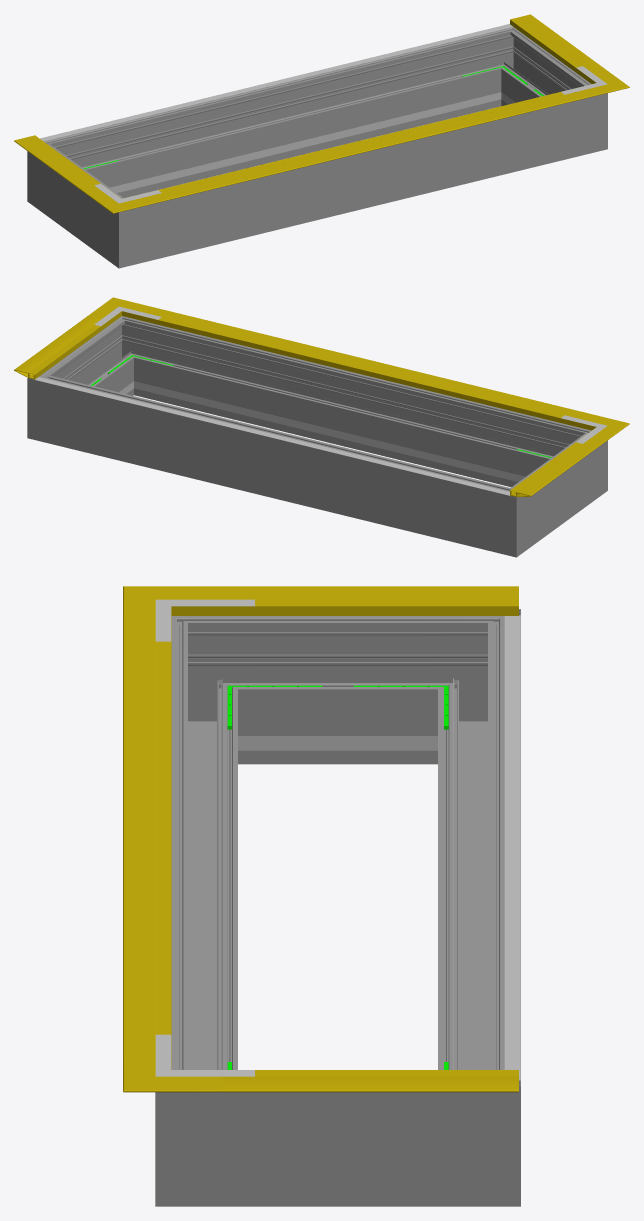
The picture shows the model from 3 angles, top to bottom: view 1: azimuth 30°, elevation 25°; view 2: azimuth 150°, elevation 25°; view 3: azimuth 270°, elevation 25°; orthographic projection. The views are drawn at different scales.
Visible parts, largest first — view 1: 3DGeom-276, 3DGeom-298, 3DGeom-141, 3DGeom-270, 3DGeom-244, 3DGeom-290, 3DGeom-284, 3DGeom-297, 3DGeom-268, 3DGeom-220, 3DGeom-278, 3DGeom-158 (+7 smaller); view 2: 3DGeom-298, 3DGeom-276, 3DGeom-141, 3DGeom-278, 3DGeom-284, 3DGeom-239, 3DGeom-290, 3DGeom-297, 3DGeom-268, 3DGeom-220, 3DGeom-270, 3DGeom-158 (+7 smaller); view 3: 3DGeom-276, 3DGeom-298, 3DGeom-268, 3DGeom-297, 3DGeom-141, 3DGeom-284, 3DGeom-290, 3DGeom-278, 3DGeom-270, 3DGeom-220, 3DGeom-147, 3DGeom-158 (+9 smaller).
Boxes of the visible parts, box(x1,y1,x2,y2) form: 3DGeom-276: box(74, 35, 494, 198); 3DGeom-298: box(162, 103, 564, 257); 3DGeom-141: box(148, 91, 586, 203); 3DGeom-270: box(94, 187, 161, 268); 3DGeom-244: box(125, 102, 459, 190); 3DGeom-290: box(565, 72, 607, 159); 3DGeom-284: box(477, 27, 534, 107); 3DGeom-297: box(505, 42, 575, 104); 3DGeom-268: box(52, 156, 107, 249); 3DGeom-220: box(40, 24, 512, 141); 3DGeom-278: box(27, 134, 91, 219); 3DGeom-158: box(158, 92, 564, 192); 3DGeom-298: box(141, 325, 560, 487); 3DGeom-276: box(70, 382, 481, 546); 3DGeom-141: box(144, 308, 585, 426); 3DGeom-278: box(473, 476, 541, 557); 3DGeom-284: box(27, 361, 78, 448); 3DGeom-239: box(175, 391, 509, 479); 3DGeom-290: box(101, 316, 157, 396); 3DGeom-297: box(59, 331, 129, 394); 3DGeom-268: box(527, 445, 582, 538); 3DGeom-220: box(34, 377, 510, 495); 3DGeom-270: box(544, 423, 607, 508); 3DGeom-158: box(158, 317, 564, 417); 3DGeom-276: box(438, 651, 520, 1069); 3DGeom-298: box(171, 651, 237, 1069); 3DGeom-268: box(254, 616, 421, 764); 3DGeom-297: box(254, 1092, 421, 1206); 3DGeom-141: box(123, 628, 171, 1048); 3DGeom-284: box(421, 1044, 520, 1206); 3DGeom-290: box(155, 1044, 254, 1206); 3DGeom-278: box(421, 609, 520, 764); 3DGeom-270: box(171, 616, 254, 764); 3DGeom-220: box(504, 615, 520, 1082); 3DGeom-147: box(222, 586, 518, 615); 3DGeom-158: box(155, 641, 171, 1034).
Size of the model in its own units: 1.83 by 0.2195 by 0.6096.
